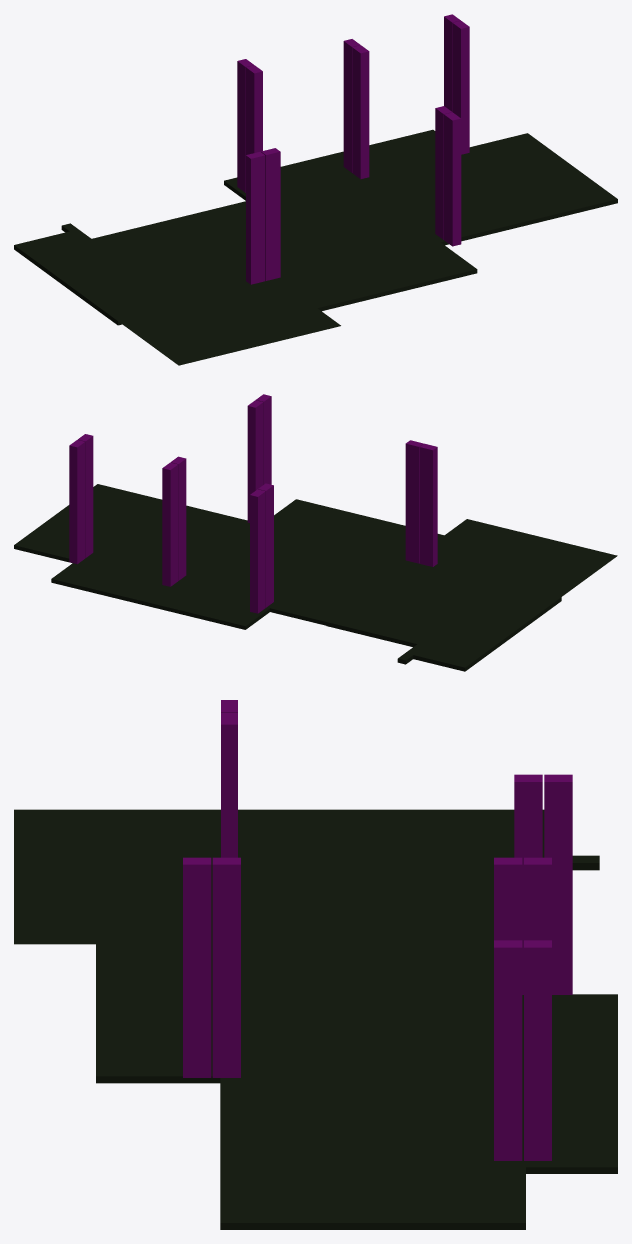
File: Dynamics_Textures.fbx
3 renders of one model, top to bottom at view 1: azimuth 30°, elevation 25°; view 2: azimuth 150°, elevation 25°; view 3: azimuth 270°, elevation 25°, orthographic. The views are drawn at different scales.
Visible parts, largest first — view 1: TilesFloorMain, Mian_Pillar_Tiles_In, TilesFloorSmall, TilesFloorOut; view 2: TilesFloorMain, Mian_Pillar_Tiles_In, TilesFloorSmall, TilesFloorOut; view 3: TilesFloorMain, Mian_Pillar_Tiles_In, TilesFloorSmall, TilesFloorOut.
Boxes of the visible parts, x1=… form: TilesFloorMain: x1=190, y1=129, x2=617, y2=311; Mian_Pillar_Tiles_In: x1=237, y1=14, x2=469, y2=284; TilesFloorSmall: x1=14, y1=215, x2=280, y2=325; TilesFloorOut: x1=118, y1=281, x2=340, y2=365; TilesFloorMain: x1=14, y1=484, x2=443, y2=629; Mian_Pillar_Tiles_In: x1=69, y1=394, x2=437, y2=613; TilesFloorSmall: x1=326, y1=561, x2=561, y2=671; TilesFloorOut: x1=435, y1=519, x2=617, y2=596; TilesFloorMain: x1=96, y1=944, x2=617, y2=1229; Mian_Pillar_Tiles_In: x1=183, y1=700, x2=572, y2=1160; TilesFloorSmall: x1=220, y1=809, x2=599, y2=944; TilesFloorOut: x1=14, y1=809, x2=220, y2=944.
Size of the model in its own units: 21.84 by 5.59 by 13.49.
